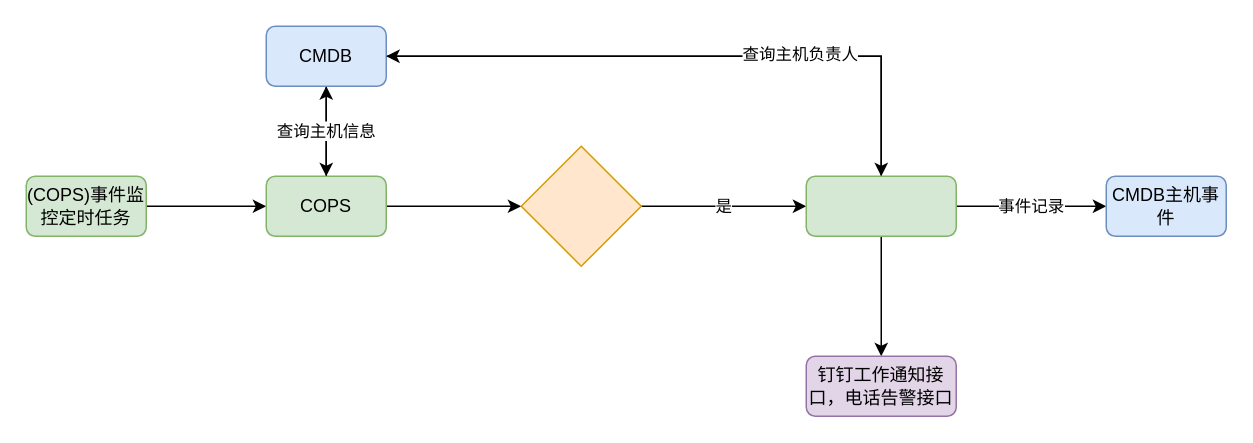
This 1253x443 diagram has some shape labels left out. The shapes that lost their labels are listed below. From the top down, each one's centre as x and y in pixels, then its label:
At (x=580, y=205): "是否生产服务器".
At (x=880, y=205): "COPS获取主机负责人信息，并发送告警通知".
